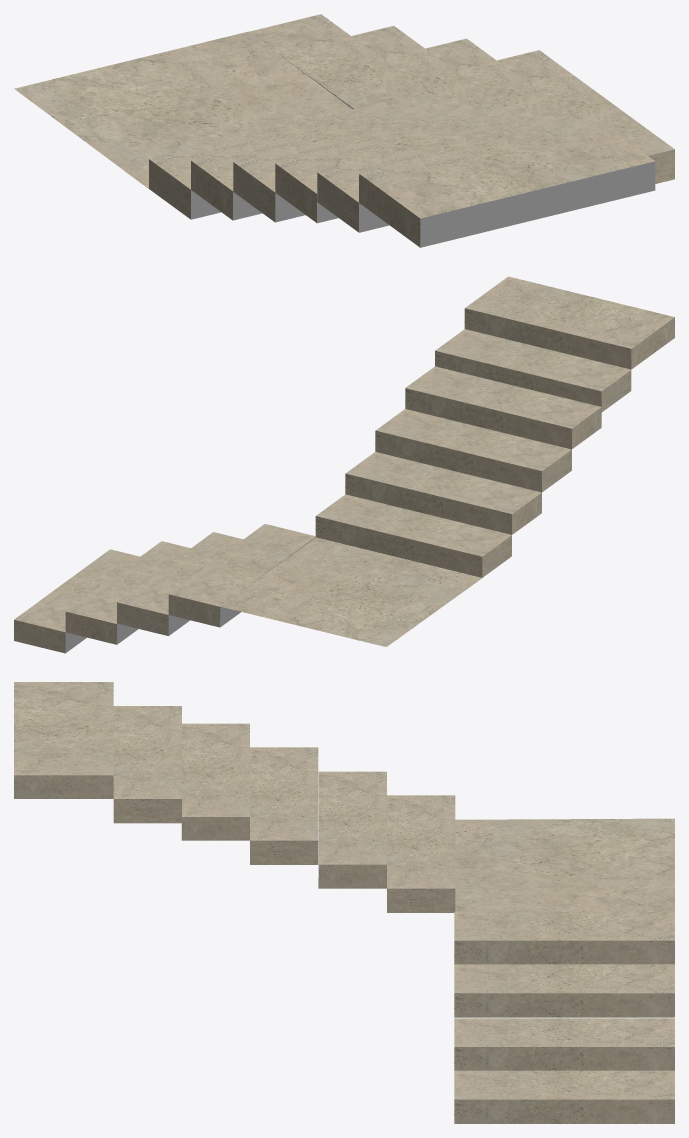
The model's file is escada.fbx.
The picture shows the model from 3 angles, top to bottom: view 1: azimuth 30°, elevation 25°; view 2: azimuth 150°, elevation 25°; view 3: azimuth 270°, elevation 25°; orthographic projection. The views are drawn at different scales.
Visible parts, largest first — view 1: pasted__polySurface68; view 2: pasted__polySurface68; view 3: pasted__polySurface68.
Part boxes in pixels (x1,y1,x2,y2): pasted__polySurface68: (14,14,674,247); pasted__polySurface68: (14,276,674,653); pasted__polySurface68: (14,682,674,1123).
Size of the model in its own units: 7.21 by 3.77 by 9.66.
